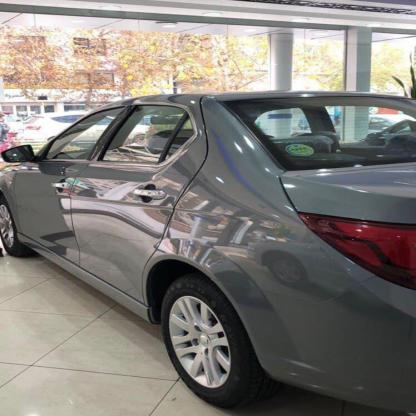Car: (0, 90, 416, 412), (4, 116, 145, 144)
